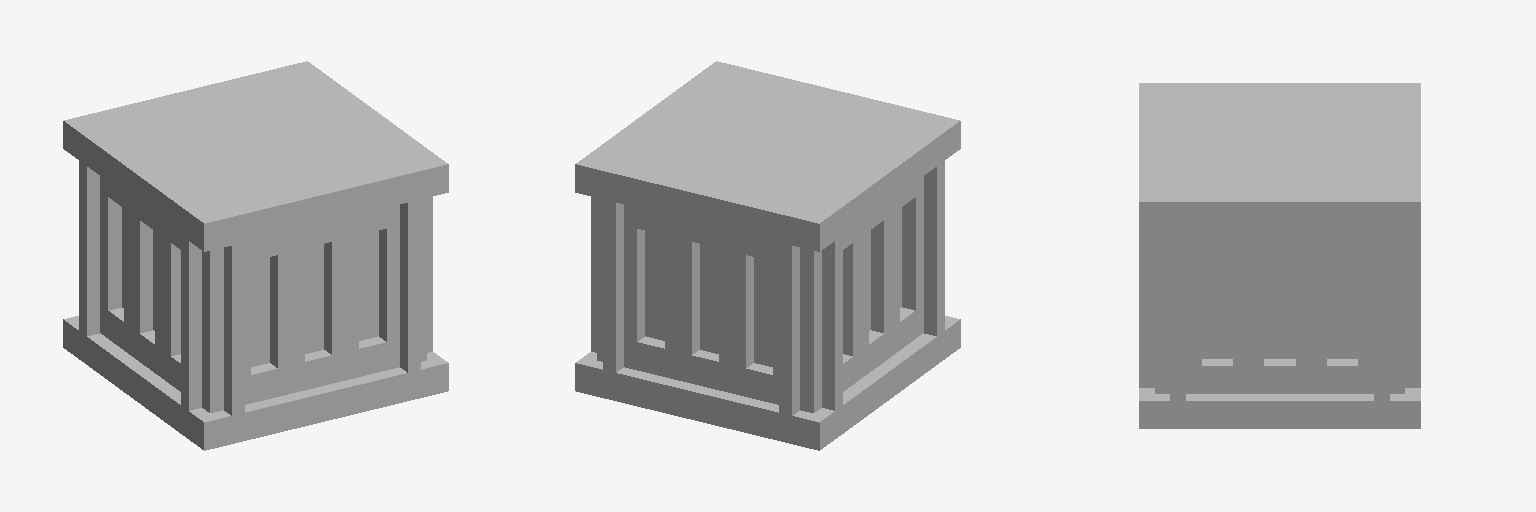
File: Tri-Window Layer.obj
The picture shows the model from 3 angles: view 1: azimuth 30°, elevation 25°; view 2: azimuth 150°, elevation 25°; view 3: azimuth 270°, elevation 25°; orthographic projection.
Parts seen in each view (by area): view 1: Tri-Window Layer; view 2: Tri-Window Layer; view 3: Tri-Window Layer.
Boxes of the visible parts, <box> form: Tri-Window Layer: <box>63,61,448,450</box>; Tri-Window Layer: <box>575,61,960,450</box>; Tri-Window Layer: <box>1139,83,1420,428</box>.
Bounding box in the file's own units: 1.12 × 1 × 1.12.